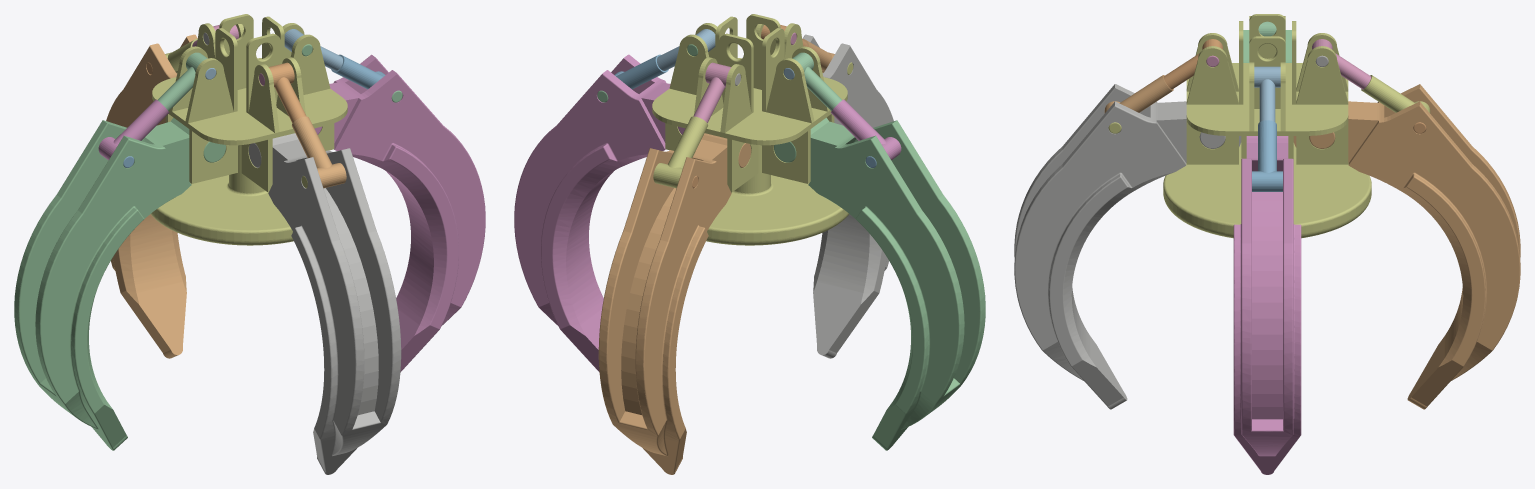
The model's file is case-03_fable52.glb.
The picture shows the model from 3 angles, left to right: view 1: azimuth 30°, elevation 25°; view 2: azimuth 150°, elevation 25°; view 3: azimuth 270°, elevation 25°; orthographic projection.
Parts seen in each view (by area): view 1: c00004, c00001, c00005, c00002, c00003, c00013, c00012, c00009, c00008, c00010, c00006; view 2: c00004, c00001, c00003, c00002, c00005, c00011, c00012, c00007, c00008, c00010, c00006; view 3: c00001, c00003, c00005, c00002, c00010, c00006, c00011, c00013, c00009, c00007.
Part boxes in pixels (x1,y1,x2,y2): c00004: (14, 117, 191, 450); c00001: (151, 14, 347, 245); c00005: (268, 133, 401, 474); c00002: (329, 54, 485, 372); c00003: (106, 34, 197, 358); c00013: (292, 116, 346, 188); c00012: (98, 99, 169, 160); c00009: (268, 62, 306, 123); c00008: (157, 52, 207, 110); c00010: (331, 54, 385, 89); c00006: (284, 29, 342, 70); c00004: (808, 117, 985, 450); c00001: (652, 14, 848, 245); c00003: (598, 133, 731, 474); c00002: (514, 54, 670, 372); c00005: (803, 34, 893, 358); c00011: (653, 116, 707, 188); c00012: (830, 99, 901, 160); c00007: (693, 62, 731, 122); c00008: (792, 52, 842, 110); c00010: (614, 54, 668, 89); c00006: (657, 29, 715, 70); c00001: (1163, 14, 1371, 238); c00003: (1293, 84, 1520, 409); c00005: (1014, 84, 1241, 409); c00002: (1233, 136, 1301, 474); c00010: (1252, 120, 1282, 191); c00006: (1254, 66, 1280, 121); c00011: (1361, 75, 1430, 113); c00013: (1104, 75, 1173, 113); c00009: (1163, 39, 1222, 89); c00007: (1312, 39, 1371, 89).
Bounding box in the file's own units: 1942 × 1619 × 1942.
